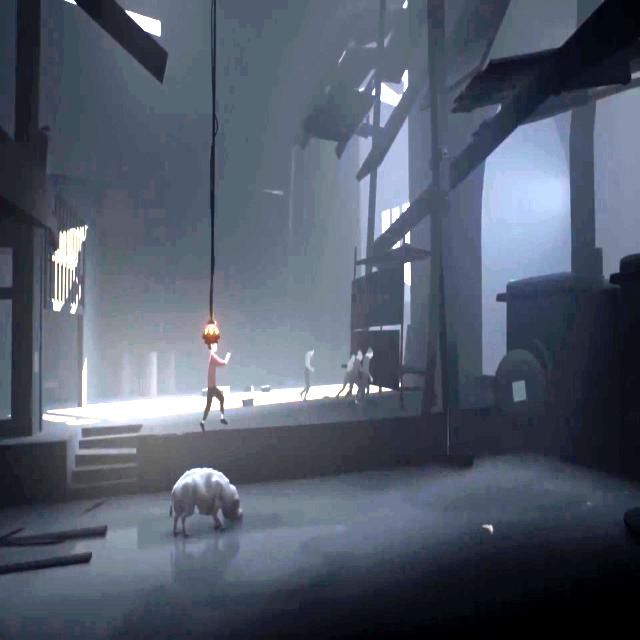zombie: (299, 346, 315, 402), (364, 347, 374, 401), (352, 351, 363, 397)
